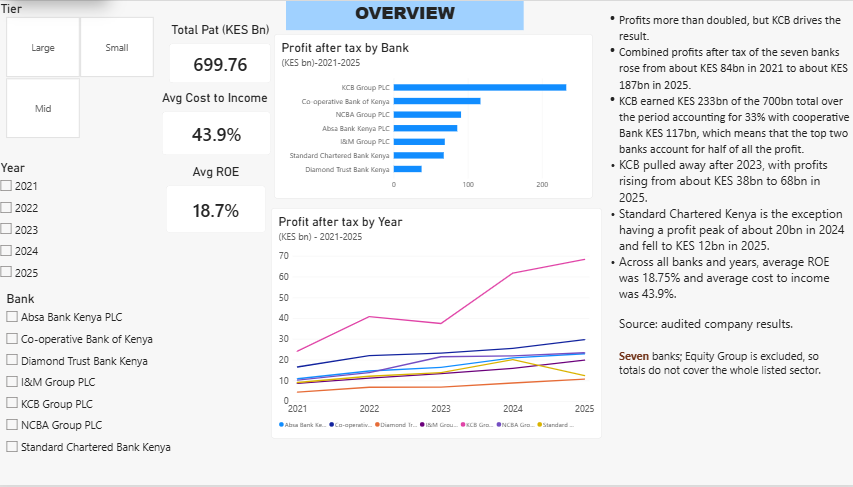

The dashboard page shown, as its layout file describes it:
{"tool":"powerbi","page":{"name":"Overview","canvas":[1920,1080],"ordinal":0},"visuals":[{"type":"textbox","box":[644.2,0,529.5,64.6],"z":0},{"type":"slicer","fields":{"Values":["Working data.Tier"]},"box":[0,0,367.6,307],"z":1000},{"type":"slicer","fields":{"Values":["Working data.Year"]},"box":[0,354.3,165,283.2],"z":2000},{"type":"slicer","fields":{"Values":["Working data.Bank"]},"box":[181.2,544.6,388,379.1],"z":3000},{"type":"cardVisual","title":"Total Pat (KES Bn)","fields":{"Data":["Working data.Sum PAT (KES bn)"]},"box":[382.5,46.7,227.9,136.4],"z":4000},{"type":"cardVisual","title":"Avg ROE","fields":{"Data":["Working data.Avg ROE"]},"box":[375.8,363.4,222.2,153.6],"z":5000},{"type":"cardVisual","title":"Avg Cost to Income","fields":{"Data":["Working data.Avg Cost to Income"]},"box":[367.6,198,242.3,145.9],"z":6000},{"type":"clusteredBarChart","title":"Profit after tax by Bank","fields":{"Category":["Working data.Bank"],"Y":["Working data.Sum PAT (KES bn)"]},"box":[618,73.4,710.5,367.2],"z":7000},{"type":"lineChart","title":"Profit after tax by Year ","fields":{"Category":["Working data.Year"],"Series":["Working data.Bank"],"Y":["Working data.Sum PAT (KES bn)"]},"box":[610.4,462.6,738.2,514.1],"z":8000},{"type":"textbox","box":[1347.6,22.9,557.9,664.8],"z":9000},{"type":"textbox","box":[1387.7,700,474,170.7],"z":10000}]}

Visuals, with their boxes in screenshot pixels (x1, y1, x2, y2), scaled from the page's 1920x1080 canvas onto the 853x487 screenshot:
textbox: [286, 0, 521, 29]
slicer - Working data.Tier: [0, 0, 163, 138]
slicer - Working data.Year: [0, 160, 73, 287]
slicer - Working data.Bank: [81, 246, 253, 417]
"Total Pat (KES Bn)" cardVisual: [170, 21, 271, 83]
"Avg ROE" cardVisual: [167, 164, 266, 233]
"Avg Cost to Income" cardVisual: [163, 89, 271, 155]
"Profit after tax by Bank" clusteredBarChart: [275, 33, 590, 199]
"Profit after tax by Year " lineChart: [271, 209, 599, 440]
textbox: [599, 10, 847, 310]
textbox: [617, 316, 827, 393]
